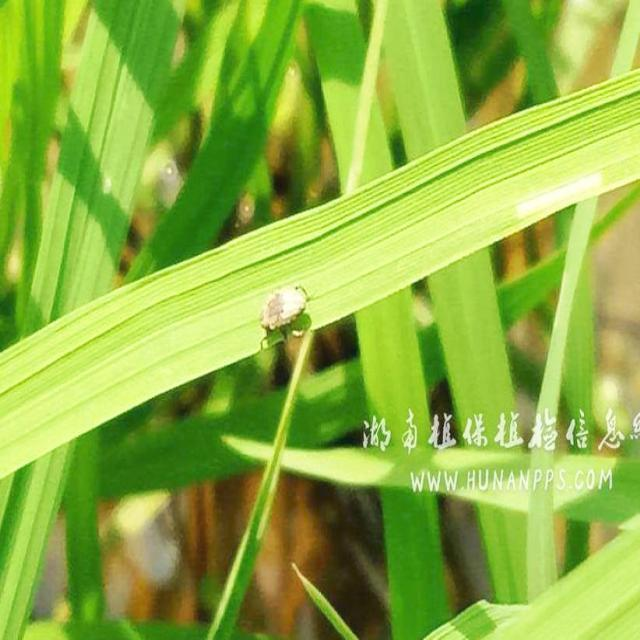rice-bug: (259, 277, 313, 345)
